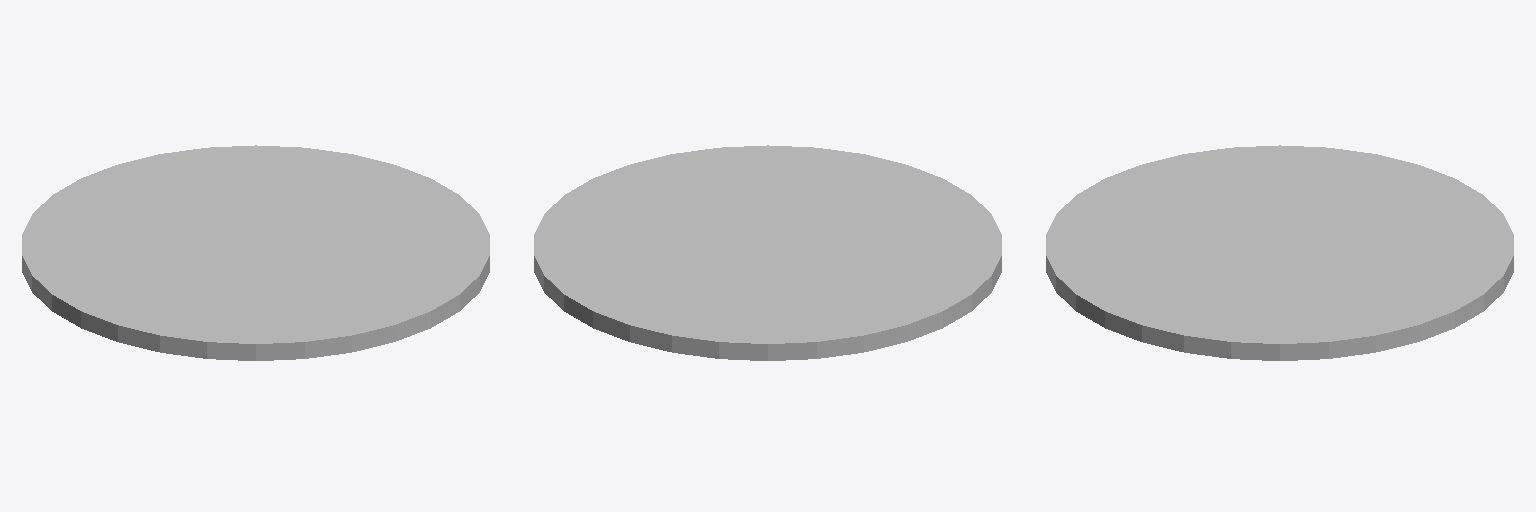
The model's file is Clock 01.obj.
3 renders of one model, left to right at view 1: azimuth 30°, elevation 25°; view 2: azimuth 150°, elevation 25°; view 3: azimuth 270°, elevation 25°, orthographic.
Parts seen in each view (by area): view 1: body; view 2: body; view 3: body.
Boxes of the visible parts, x1,y1,x2,y2 form: body: [22, 145, 489, 360]; body: [534, 145, 1001, 360]; body: [1046, 145, 1513, 360].
Bounding box in the file's own units: 19.68 × 1.03 × 19.58.